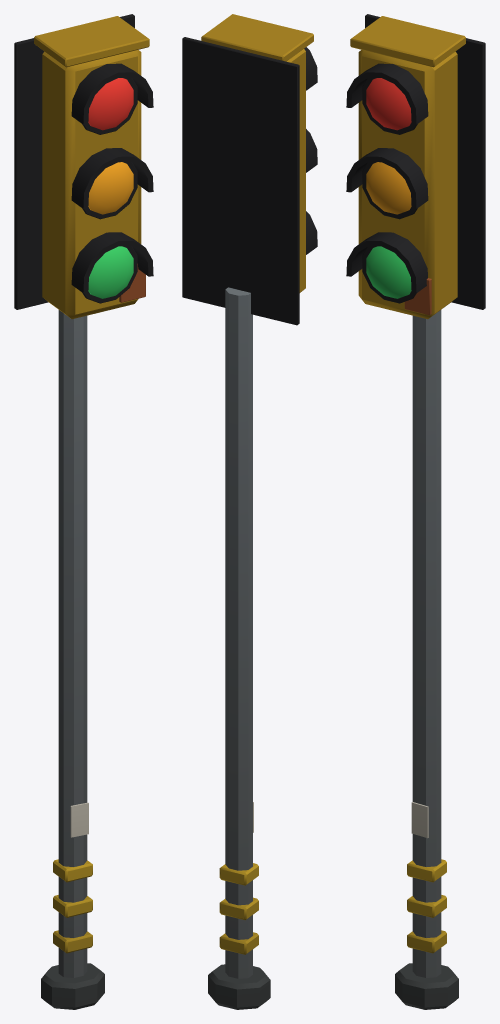
Rendered from 02_feu_tricolore.fbx.
The picture shows the model from 3 angles, left to right: view 1: azimuth 30°, elevation 25°; view 2: azimuth 150°, elevation 25°; view 3: azimuth 330°, elevation 25°; orthographic projection. The views are drawn at different scales.
Visible parts, largest first — view 1: Boitier, Poteau, Feu_Orange, Feu_Rouge, Feu_Vert; view 2: Boitier, Poteau; view 3: Boitier, Poteau, Feu_Orange, Feu_Rouge, Feu_Vert.
Part boxes in pixels (x1=…): Boitier: x1=14, y1=14, x2=153, y2=319; Poteau: x1=41, y1=310, x2=104, y2=1009; Feu_Orange: x1=88, y1=162, x2=133, y2=214; Feu_Rouge: x1=88, y1=78, x2=133, y2=130; Feu_Vert: x1=88, y1=246, x2=133, y2=298; Boitier: x1=182, y1=14, x2=317, y2=325; Poteau: x1=208, y1=287, x2=270, y2=1009; Boitier: x1=346, y1=14, x2=485, y2=319; Poteau: x1=395, y1=310, x2=458, y2=1009; Feu_Orange: x1=366, y1=162, x2=411, y2=214; Feu_Rouge: x1=366, y1=78, x2=411, y2=130; Feu_Vert: x1=366, y1=246, x2=411, y2=298.
Size of the model in its own units: 0.392 by 3.08 by 0.336.
1 material, 1 textured.
